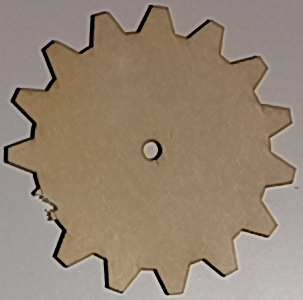Missing: (11, 185, 67, 225)
